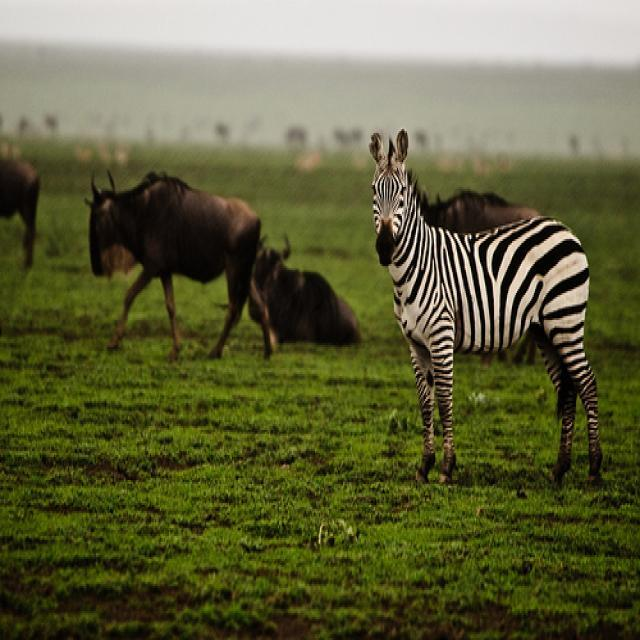cow: (81, 166, 260, 359), (250, 226, 359, 345), (415, 187, 538, 226), (0, 152, 38, 265)
